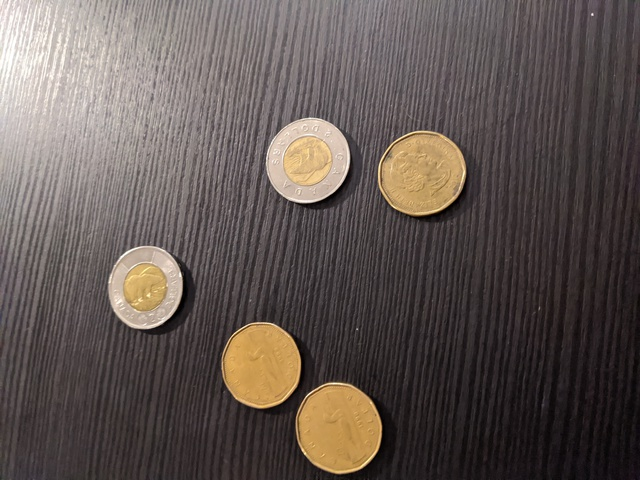loonie: (378, 118, 479, 217), (293, 376, 392, 472), (218, 313, 300, 407)
twonie: (259, 111, 357, 215), (102, 239, 186, 334)
